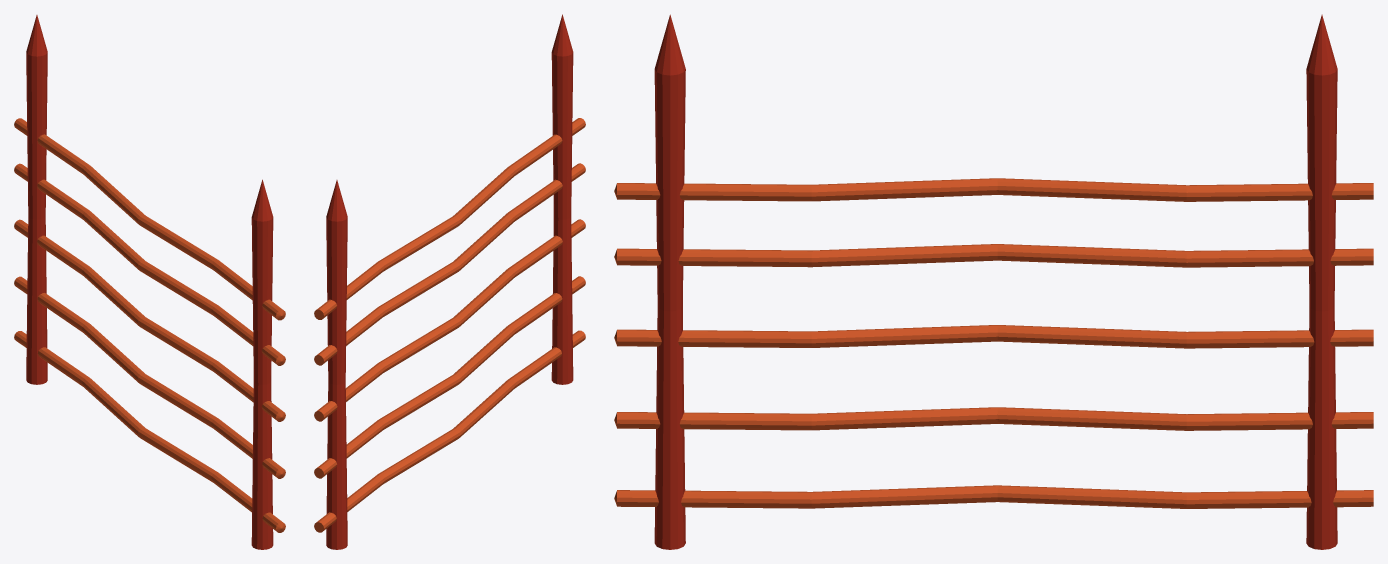
The model's file is Fence.fbx.
3 renders of one model, left to right at view 1: azimuth 30°, elevation 25°; view 2: azimuth 150°, elevation 25°; view 3: azimuth 270°, elevation 25°, orthographic. The views are drawn at different scales.
Visible parts, largest first — view 1: Cylinder.008; view 2: Cylinder.008; view 3: Cylinder.008.
Boxes of the visible parts, left/top/right/bottom form: Cylinder.008: left=14, top=15, right=285, bottom=549; Cylinder.008: left=314, top=14, right=585, bottom=549; Cylinder.008: left=614, top=14, right=1373, bottom=549.
Size of the model in its own units: 9 by 150 by 194.
